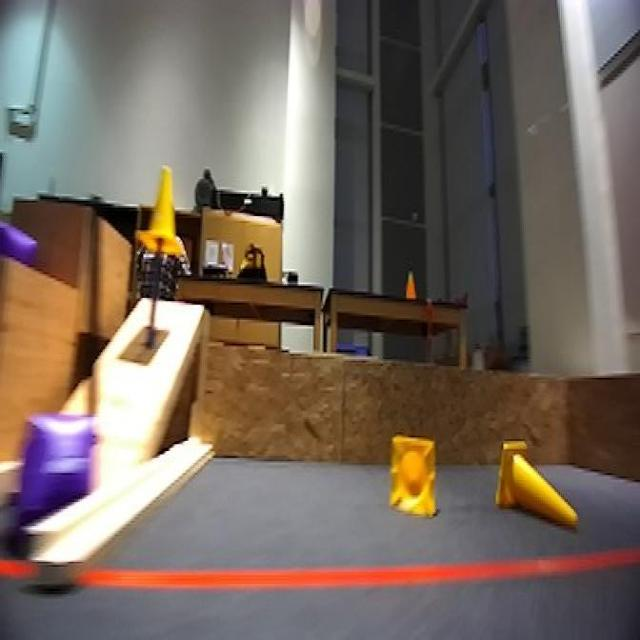frc_cone: (493, 441, 579, 534), (140, 155, 192, 267), (388, 436, 442, 519)
frc_cube: (20, 410, 98, 528), (0, 208, 40, 269)
